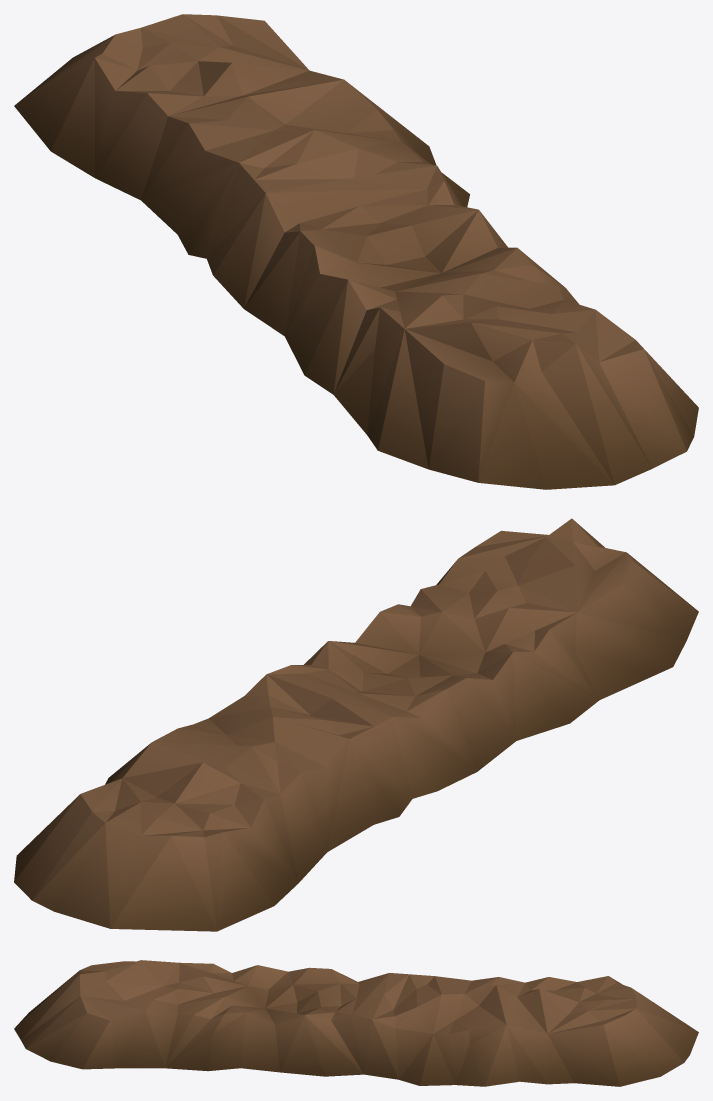
Rendered from ZLP_Road_A_1.FBX.
3 renders of one model, top to bottom at view 1: azimuth 30°, elevation 25°; view 2: azimuth 150°, elevation 25°; view 3: azimuth 270°, elevation 25°, orthographic. The views are drawn at different scales.
Parts seen in each view (by area): view 1: ZLP_Road_A_1; view 2: ZLP_Road_A_1; view 3: ZLP_Road_A_1.
Part boxes in pixels (x1,y1,x2,y2): ZLP_Road_A_1: (14,14,698,489); ZLP_Road_A_1: (14,518,698,931); ZLP_Road_A_1: (14,960,698,1086).
Bounding box in the file's own units: 279 × 79.51 × 795.
